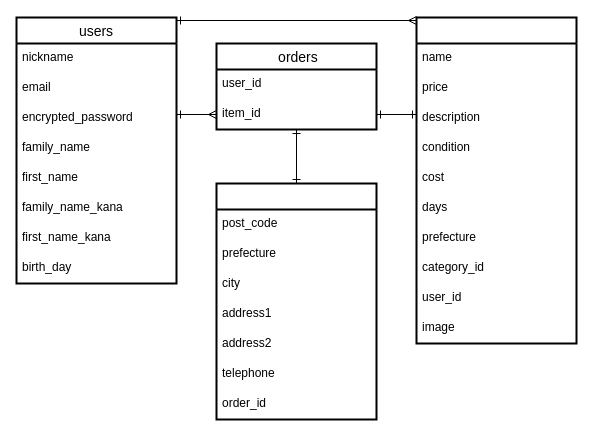
This 593x436 diagram has some shape labels left out. The box of each missing label's shape, as (x1, y1, x2, y2) in pixels:
items: (415, 16, 577, 344)
shipping_addresses: (215, 182, 377, 420)
